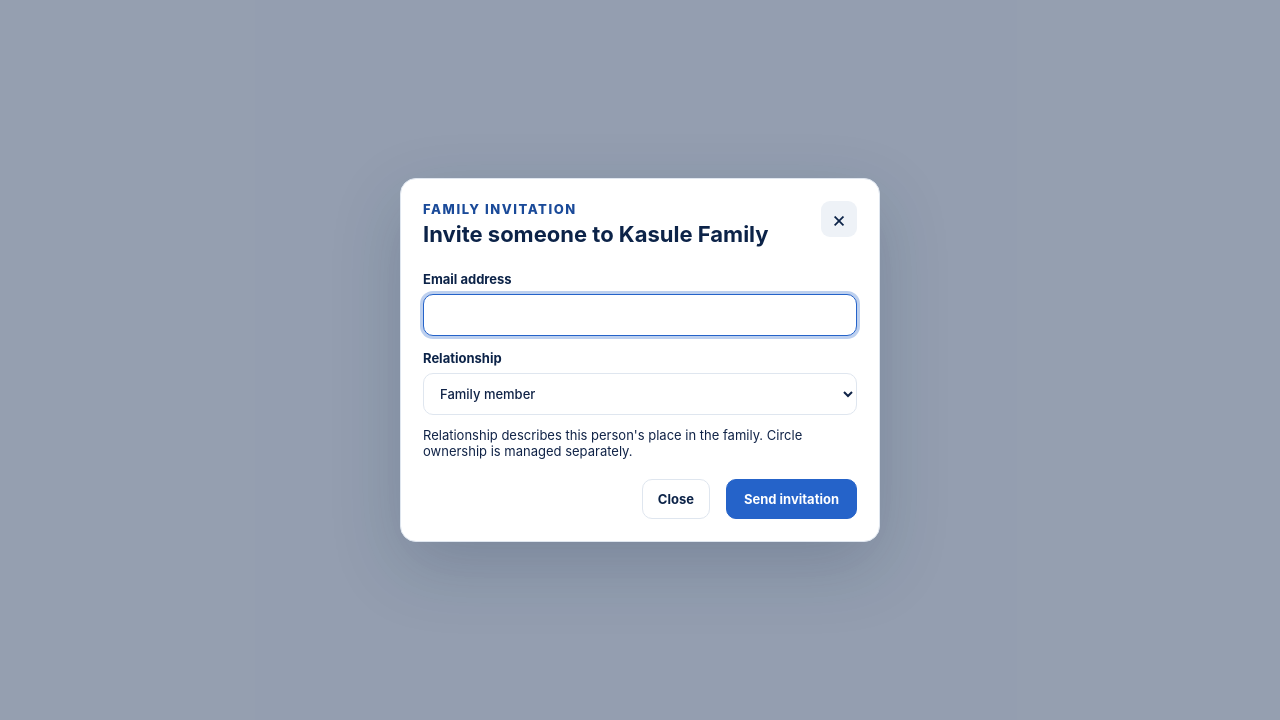
Test: InviteMemberDialog › renders the normalized already-member outcome safely
Step 1. Type "relative@example.test" into the field labelled "Email address" → (640, 315), box [423,294,857,336]
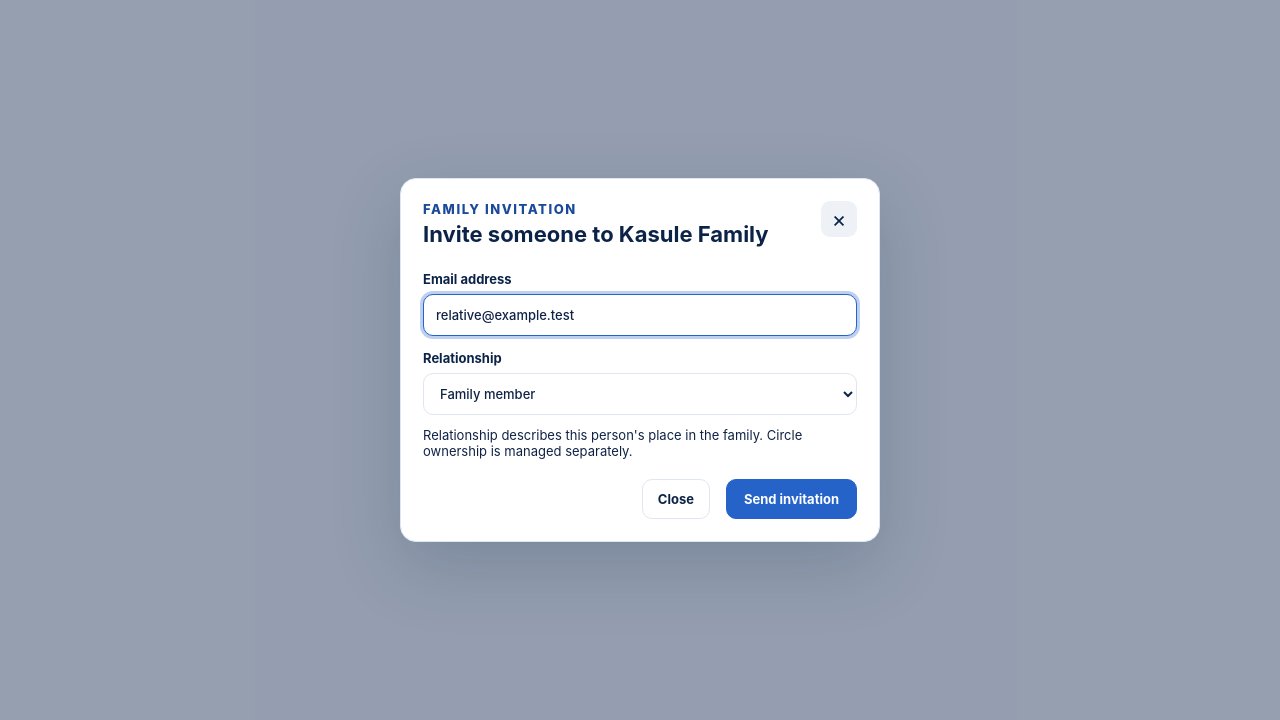
Step 2. Click the button "Send invitation" → (791, 499), box [726,479,857,519]
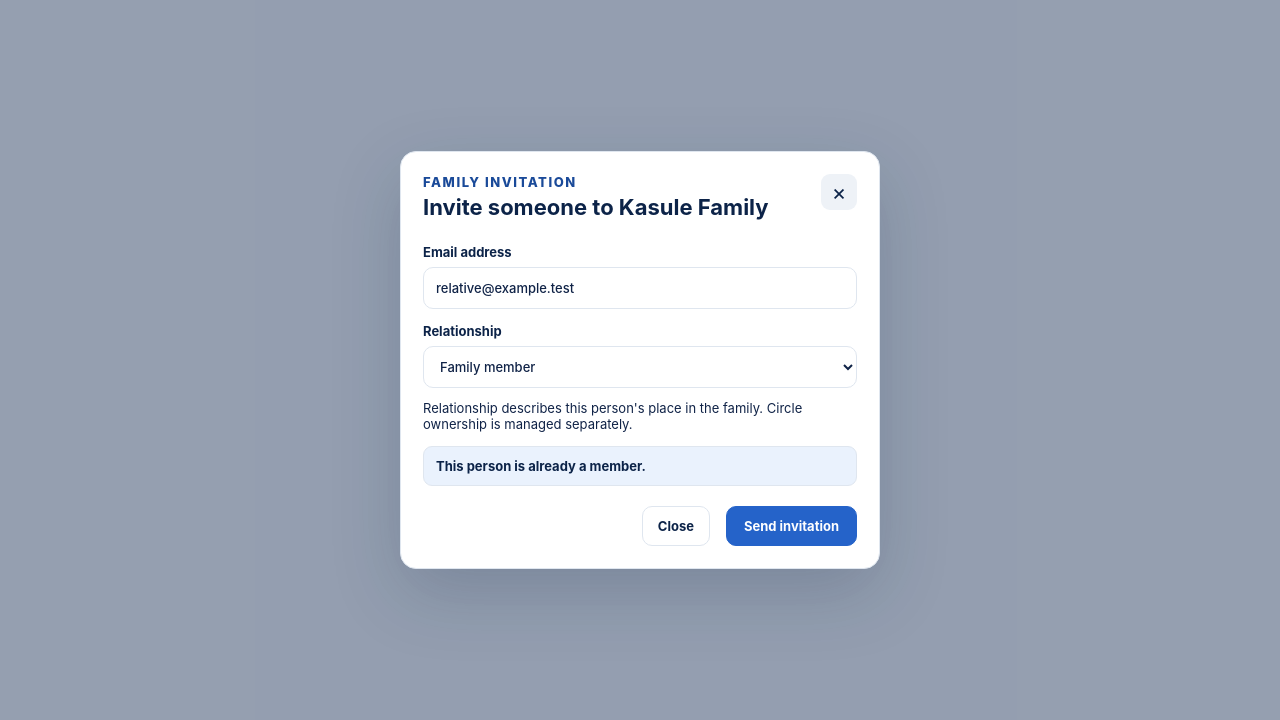
Now the text "This person is already a member." is shown, box [423,446,857,486]
